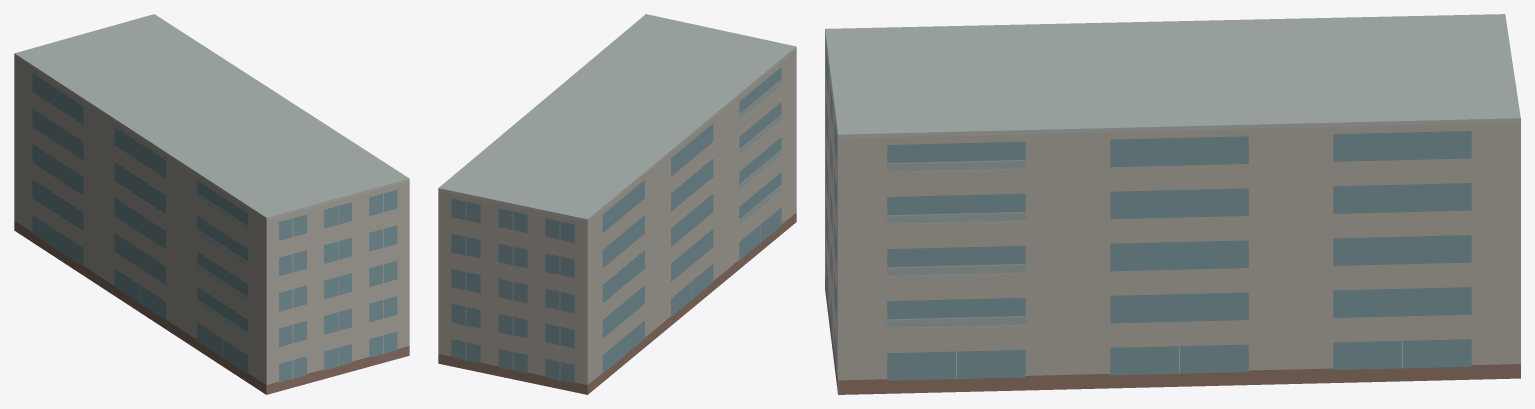
The model's file is survey-upis-32763164.glb.
3 views of the same model, side by side, from view 1: azimuth 30°, elevation 25°; view 2: azimuth 150°, elevation 25°; view 3: azimuth 270°, elevation 25° (orthographic). The views are drawn at different scales.
Parts seen in each view (by area): view 1: survey-upis-32763164.tmp; view 2: survey-upis-32763164.tmp; view 3: survey-upis-32763164.tmp.
Part boxes in pixels (box(x1,y1,x2,y2)): survey-upis-32763164.tmp: box(14, 14, 409, 394); survey-upis-32763164.tmp: box(438, 14, 796, 394); survey-upis-32763164.tmp: box(825, 14, 1520, 394).
Size of the model in its own units: 14.52 by 14.6 by 35.38.
